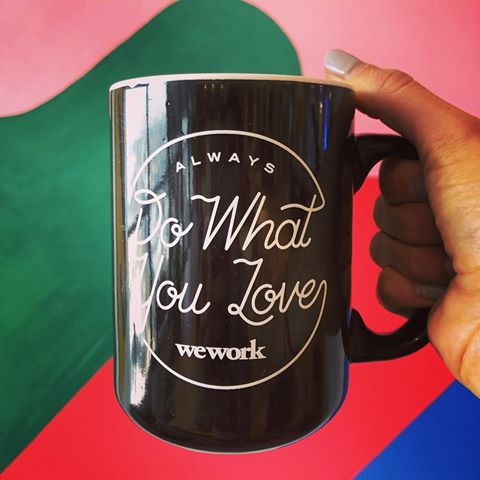wework: (173, 337, 269, 362)
